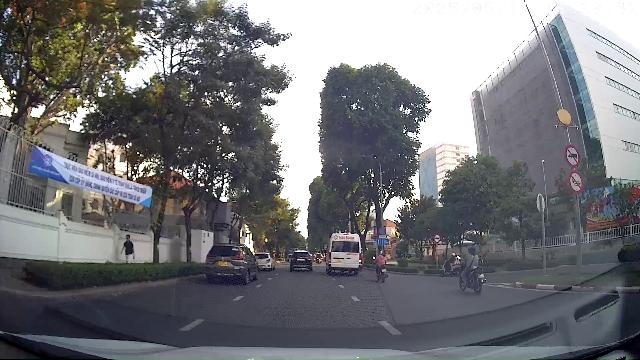128-cam-su-dung-coi: (567, 170, 584, 195)
